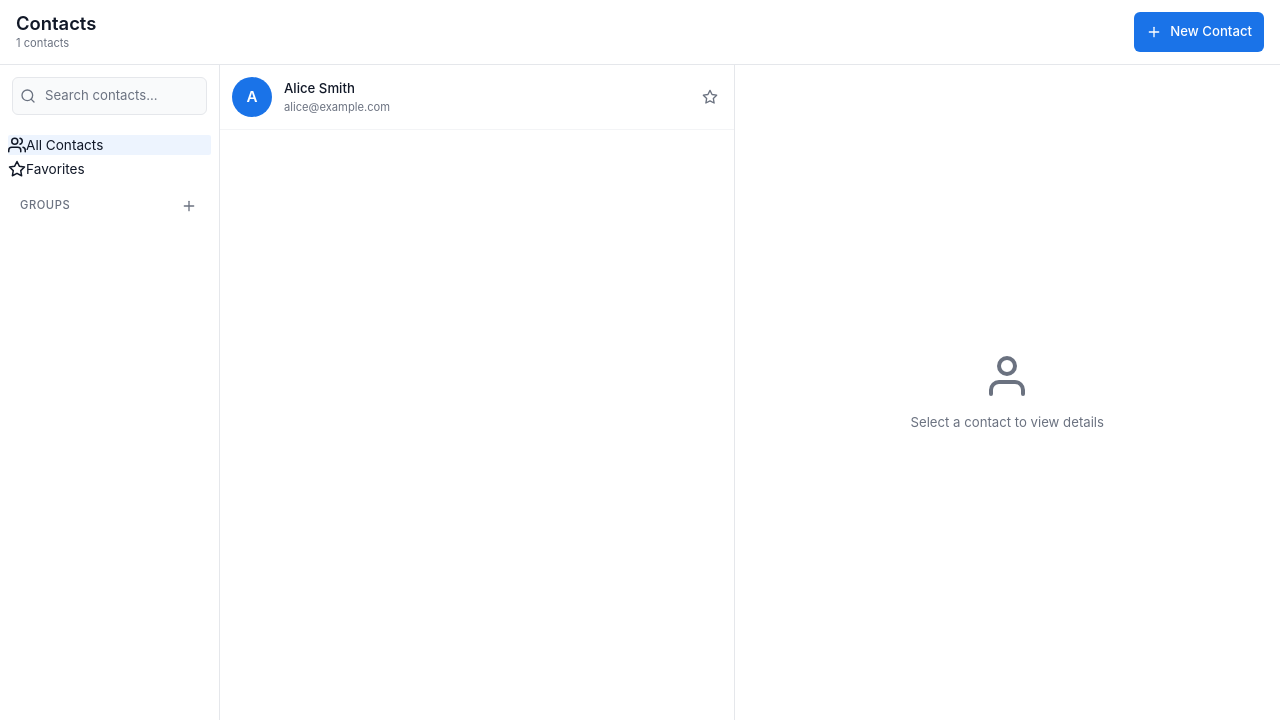
Test: ContactsPanel - Delete contact › shows delete confirmation when Delete button is clicked
Click the text "Alice Smith". click: (319,88)
box: top-left (284, 80), bottom-right (355, 96)
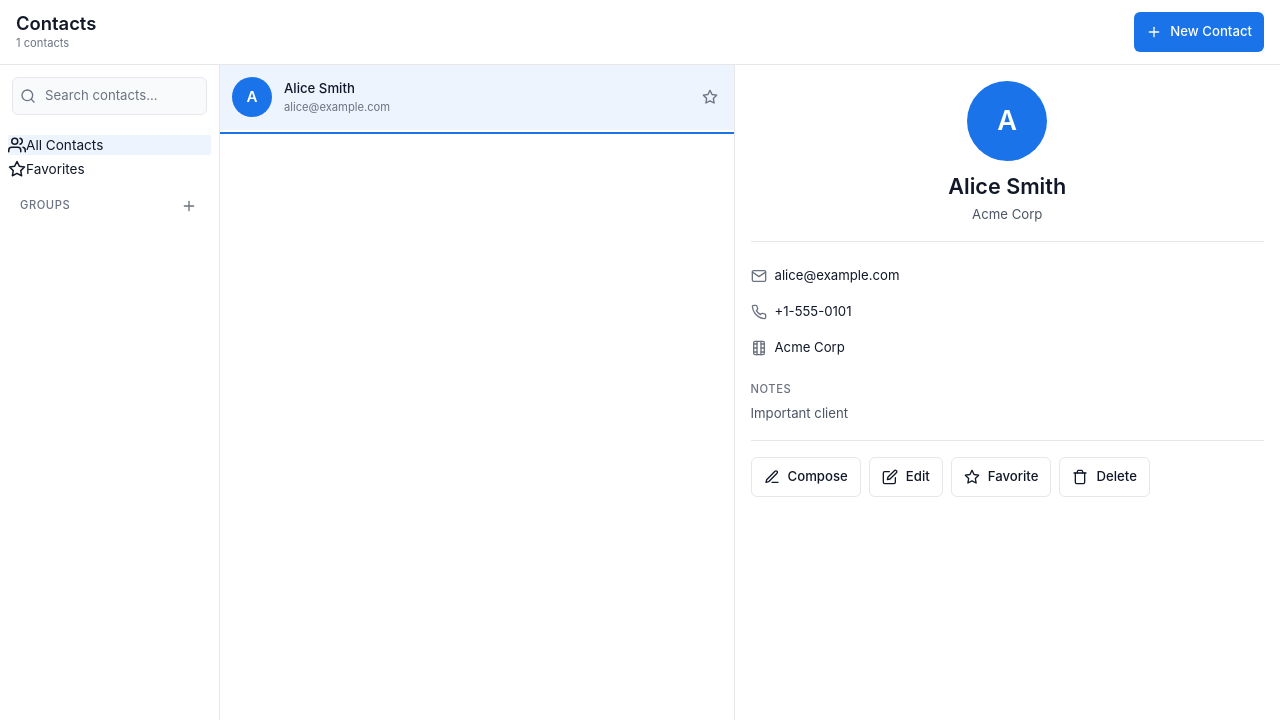
Expected: the button "Delete" is shown
Click the button "Delete". click: (1105,477)
box: top-left (1060, 457), bottom-right (1150, 497)
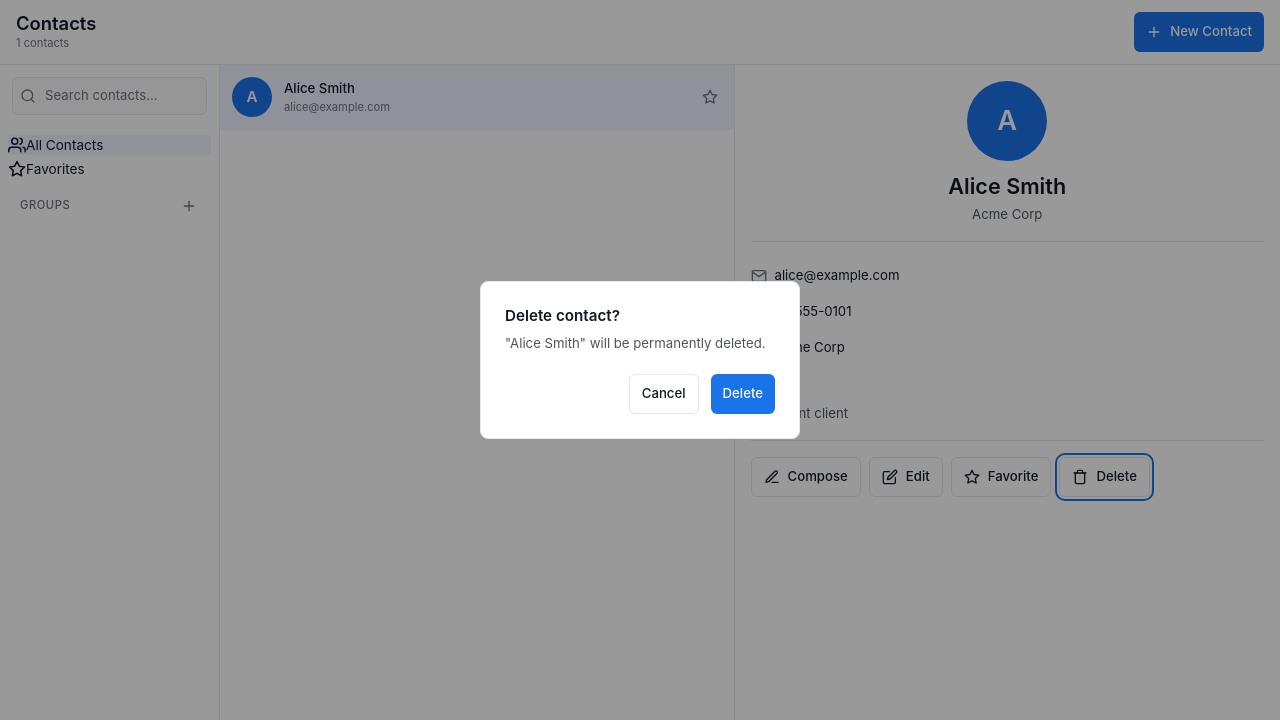
Expected: the heading "Delete contact?" is shown, top-left (505, 306), bottom-right (620, 325)
